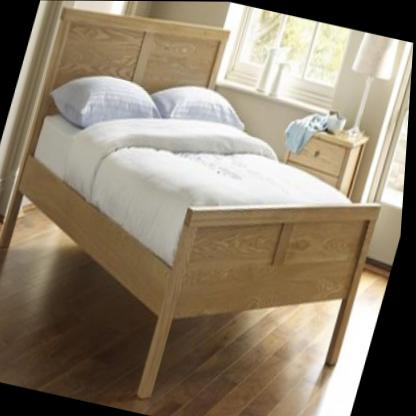Bed: (0, 0, 416, 416)
Wooden floor: (0, 200, 158, 407), (148, 299, 348, 416)
